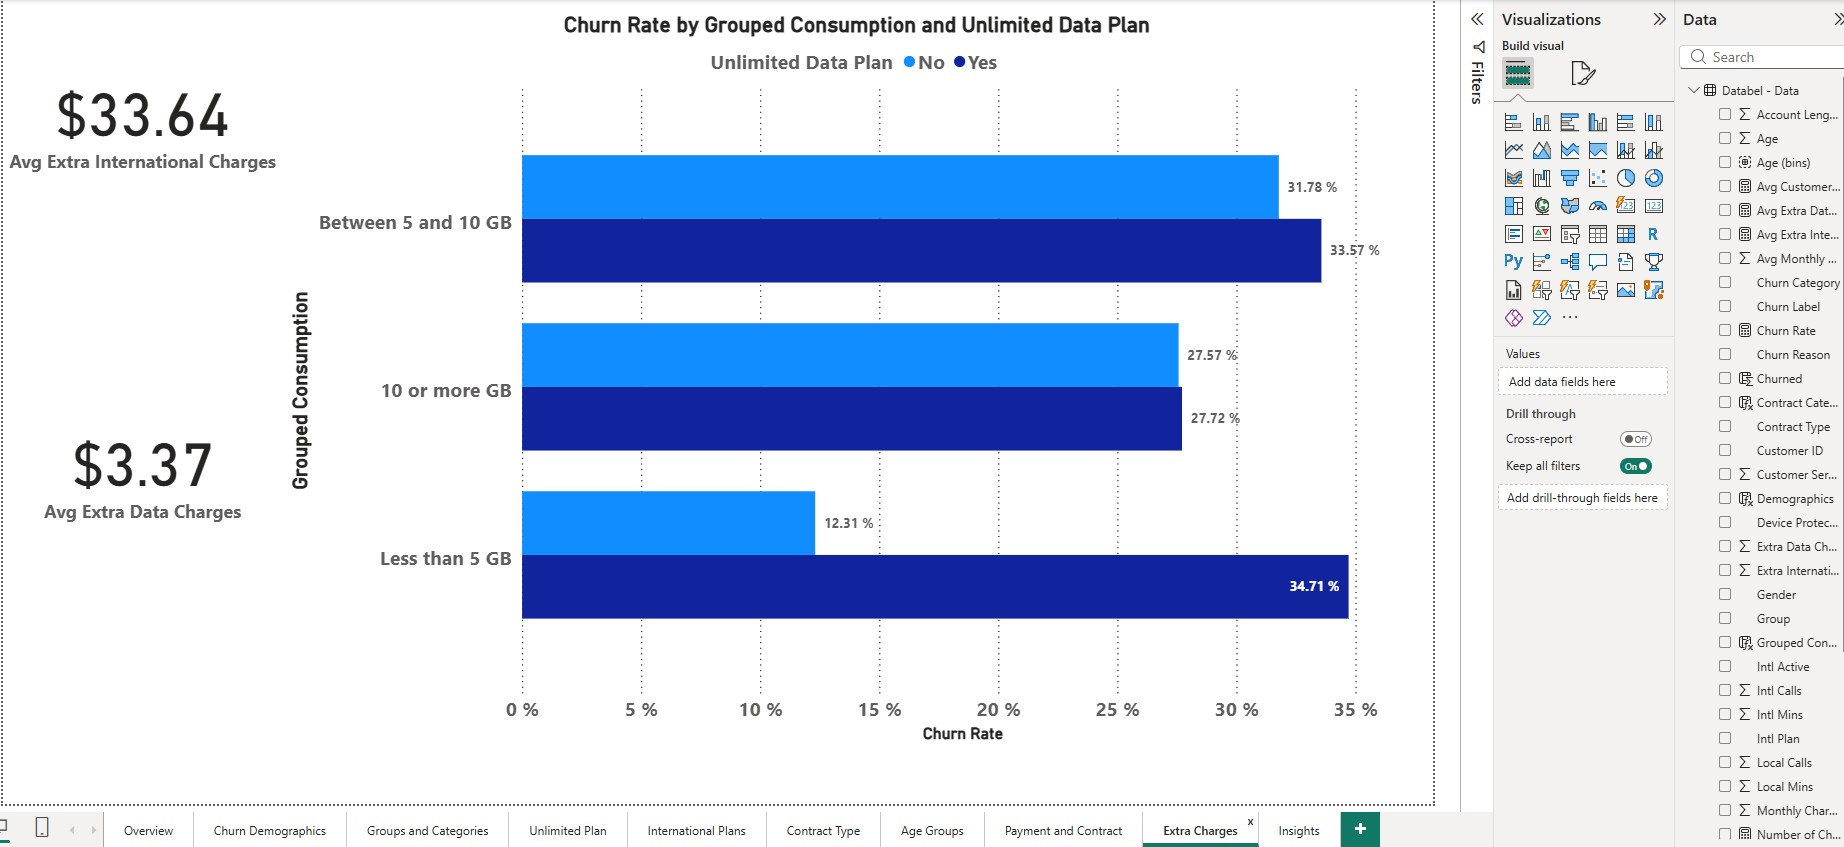

Layout of this report page (visuals, bound fields, positions):
{"tool":"powerbi","page":{"name":"Extra Charges","canvas":[1280,720],"ordinal":8},"visuals":[{"type":"clusteredBarChart","fields":{"Category":["Databel - Data.Grouped Consumption"],"Y":["Databel - Data.Churn Rate"],"Series":["Databel - Data.Unlimited Data Plan"]},"box":[249.9,10.7,1029.9,659.1],"z":0},{"type":"card","fields":{"Values":["Databel - Data.Avg Extra International Charges"]},"box":[0,10.7,249.9,190.7],"z":1000},{"type":"card","fields":{"Values":["Databel - Data.Avg Extra Data Charges"]},"box":[0,275.8,249.9,287.5],"z":2000}]}

Visuals, with their boxes on the page's 1280x720 design canvas (x1, y1, x2, y2). These are canvas units, not pixel positions in the 1844x847 screenshot, which may show the page scaled, cropped or inside an application window:
clusteredBarChart - Databel - Data.Grouped Consumption x Databel - Data.Churn Rate: Rect(250, 11, 1280, 670)
card - Databel - Data.Avg Extra International Charges: Rect(0, 11, 250, 201)
card - Databel - Data.Avg Extra Data Charges: Rect(0, 276, 250, 563)
